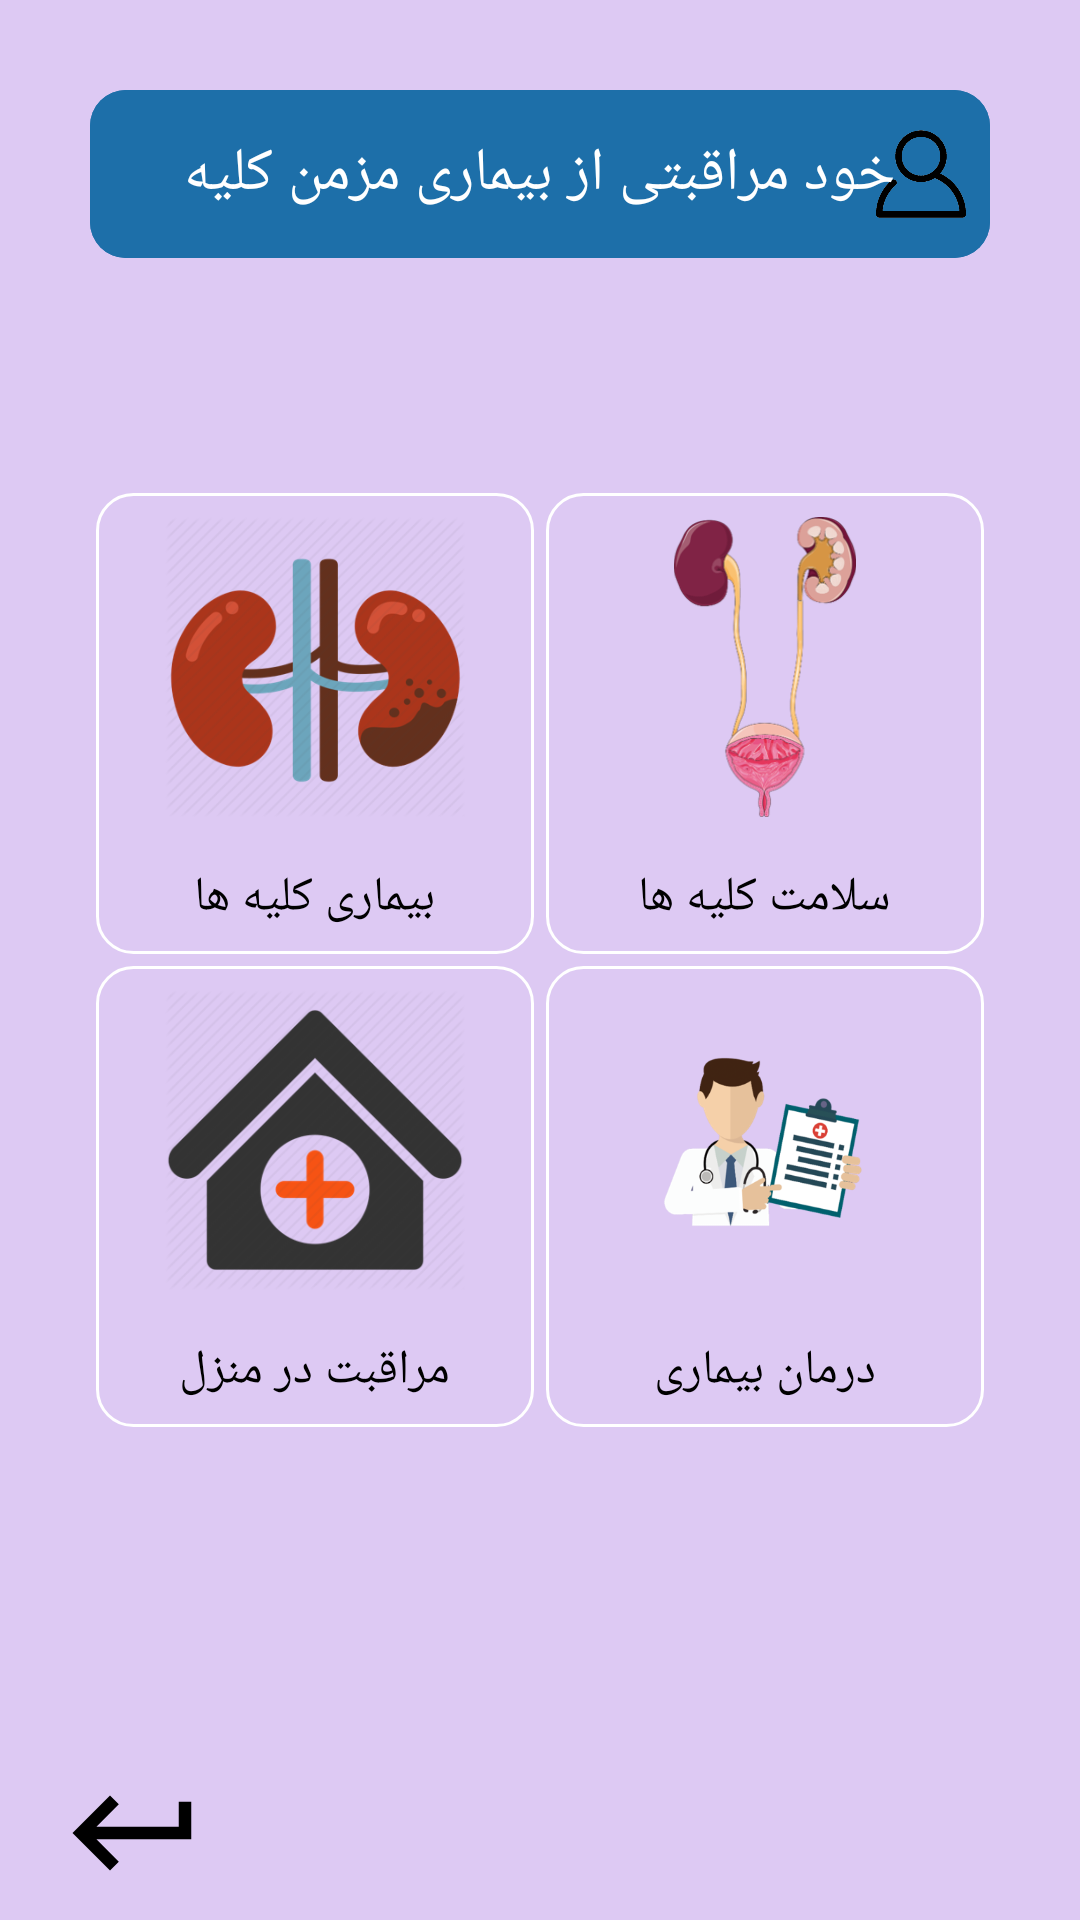

Icon bounding boxes for this 1080x1920 phone screenshot, format (x1, y1, x2, y2):
keyboard return: (72, 1795, 192, 1871)
learn health cure: (664, 1058, 862, 1226)
login: (876, 130, 966, 218)
